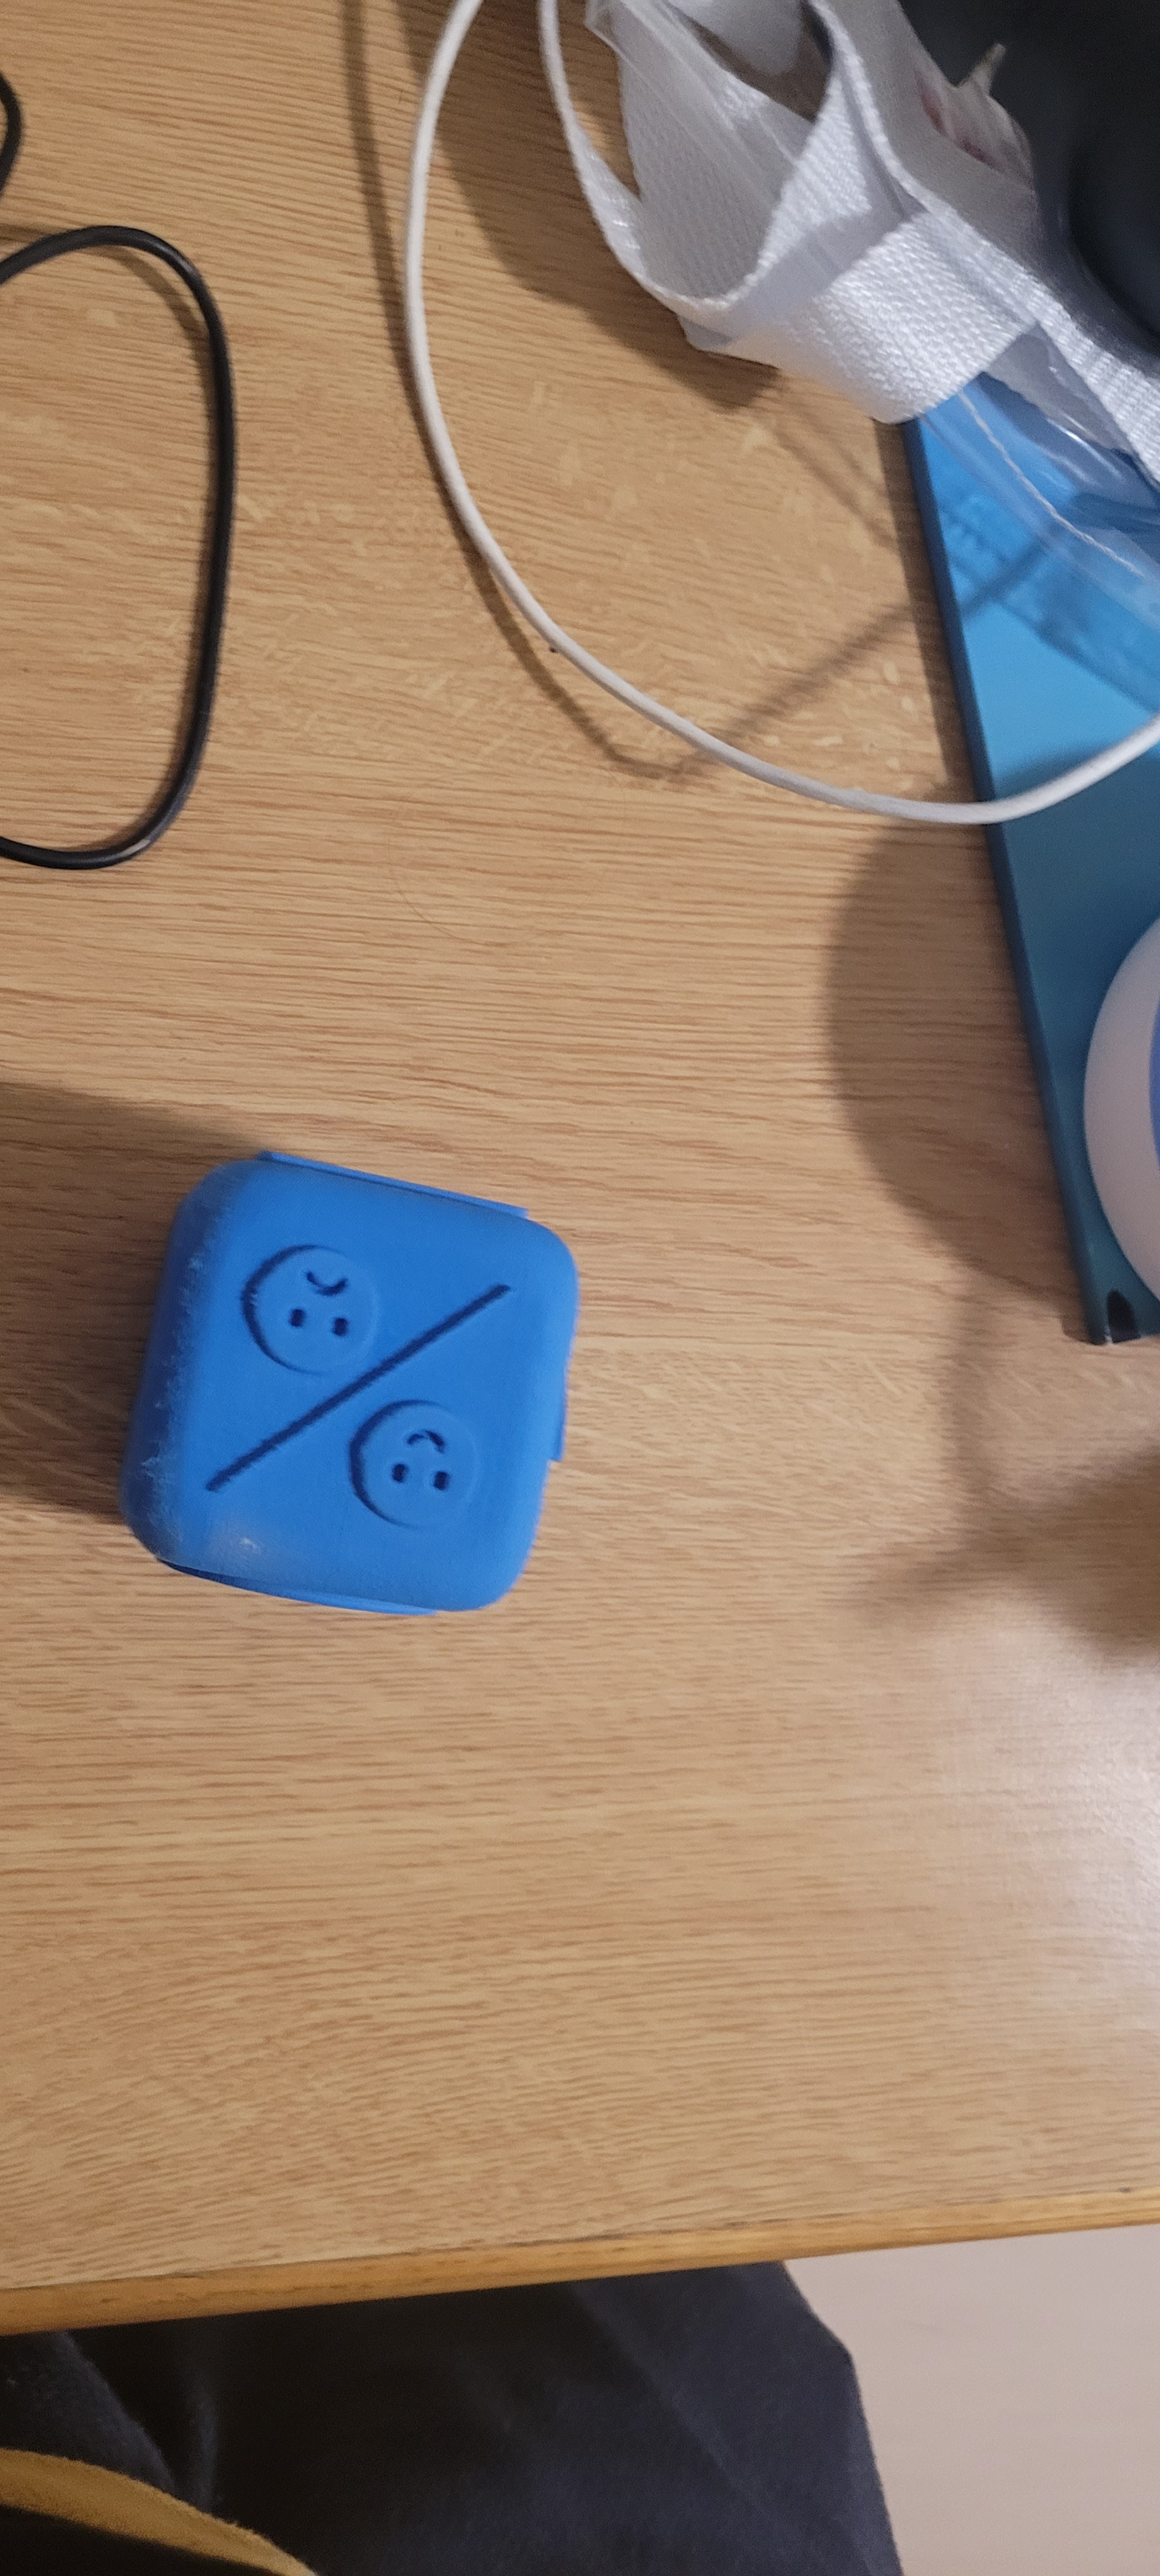Like/Dislike: (189, 1155, 562, 1602)
